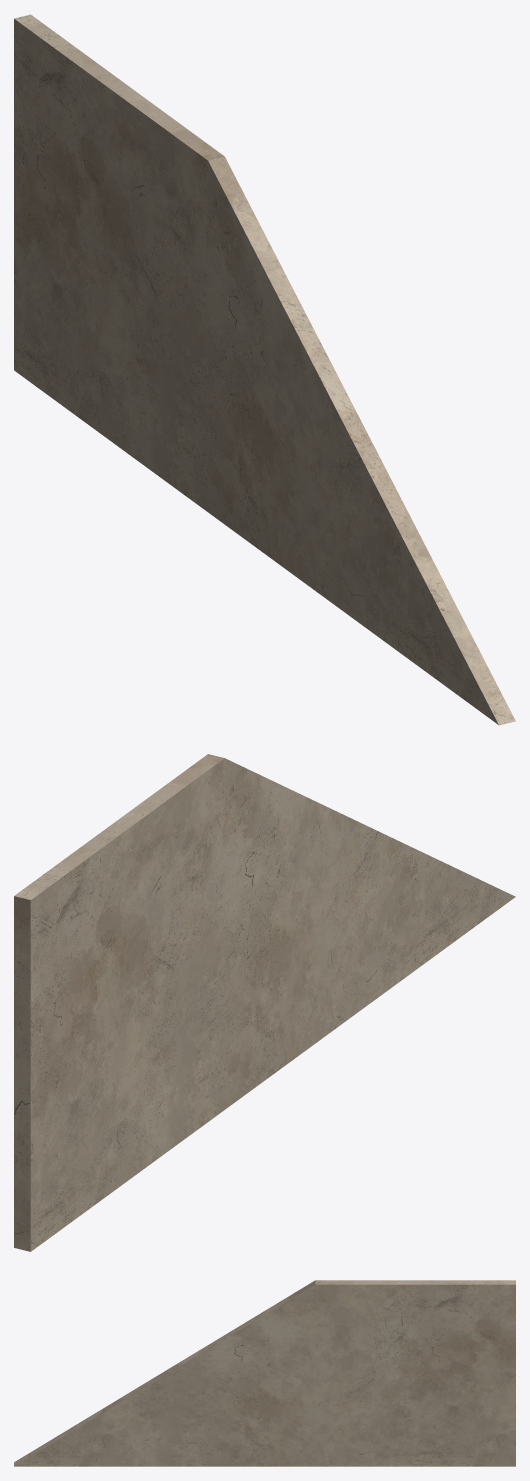
File: SM_Wall_Slope_2x5.fbx
The picture shows the model from 3 angles, top to bottom: view 1: azimuth 30°, elevation 25°; view 2: azimuth 150°, elevation 25°; view 3: azimuth 270°, elevation 25°; orthographic projection. The views are drawn at different scales.
Parts seen in each view (by area): view 1: SM_Wall_Slope_2x5_LOD0; view 2: SM_Wall_Slope_2x5_LOD0; view 3: SM_Wall_Slope_2x5_LOD0.
Boxes of the visible parts, x1=… form: SM_Wall_Slope_2x5_LOD0: x1=14, y1=14, x2=515, y2=725; SM_Wall_Slope_2x5_LOD0: x1=14, y1=754, x2=515, y2=1251; SM_Wall_Slope_2x5_LOD0: x1=14, y1=1280, x2=515, y2=1466.
Bounding box in the file's own units: 10 × 500 × 200.
